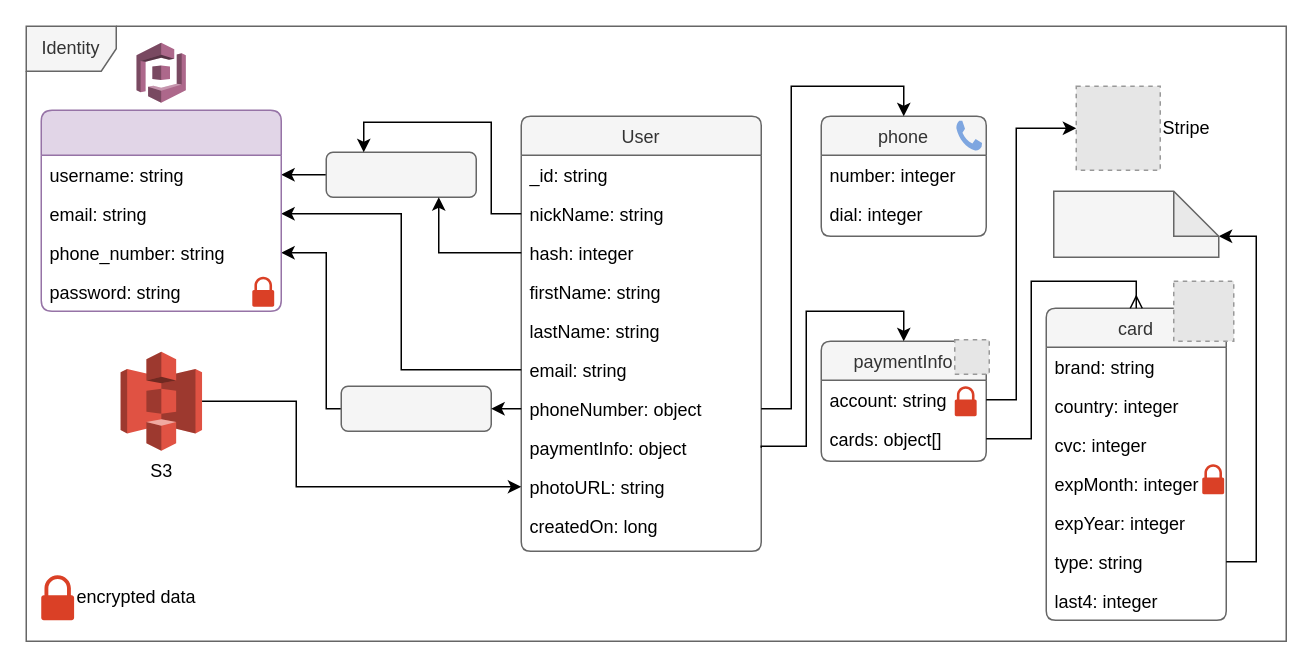
Some shapes in this 1313 by 668 pixel diagram are drawn without their labels. Grey dashed boxes stand in for pictures. The centre of each missing label's shape, as x and y in pixels:
AWS cognito identity SDK: point (160, 72)
DEBIT CREDIT: point (1135, 223)
dial+number: point (415, 408)
nickName#hash: point (400, 174)
